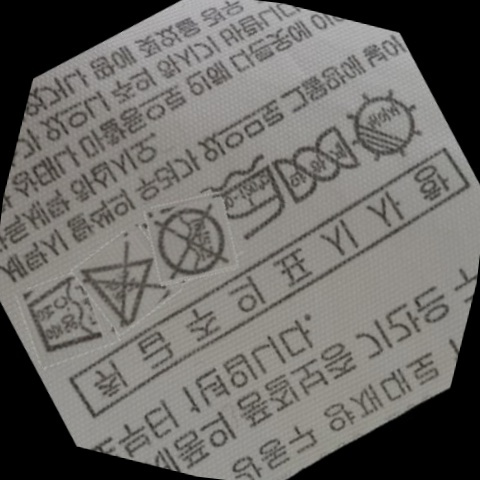DN_dry_clean: (145, 197, 233, 286)
dry_flat_in_shade: (337, 84, 423, 168)
hand_wash: (14, 269, 105, 368)
iron_low: (206, 155, 295, 248)
non_chlorine_bleach: (72, 237, 164, 327)
wring: (263, 111, 359, 211)
